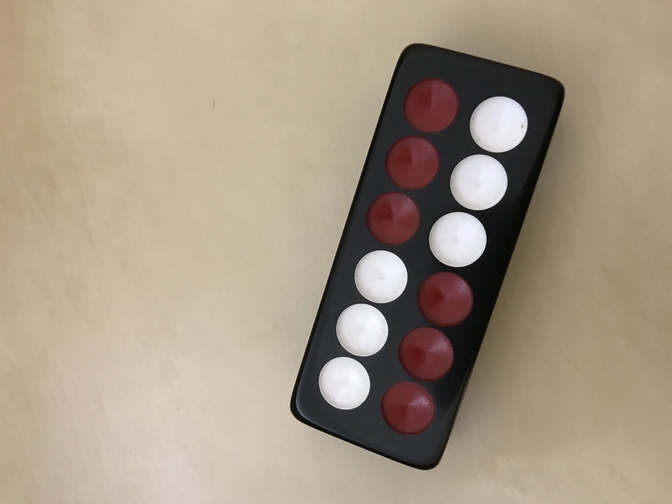heaven: (290, 43, 565, 471)
